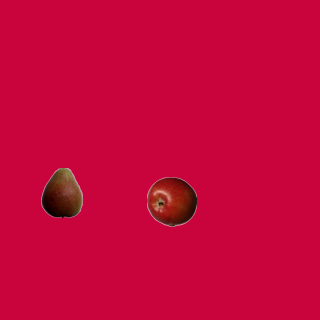Apple Braeburn: (146, 176, 196, 226)
Pear Forelle: (36, 167, 86, 217)
